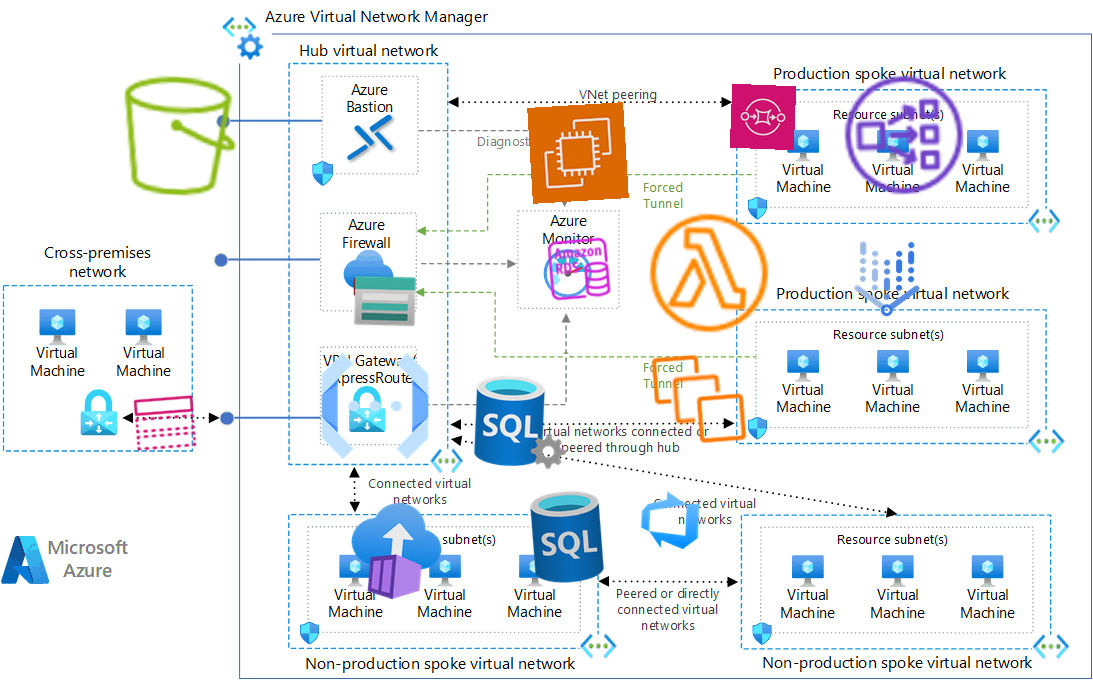aws_amazon_ec2: (527, 102, 629, 204)
aws_amazon_simple_queue_service: (729, 83, 797, 151)
aws_aurora_amazon_rds_instance: (544, 234, 614, 304)
aws_ec2_instances: (647, 347, 751, 451)
aws_elastic_load_balancing_network_load_balancer: (838, 69, 970, 201)
aws_lambda_lambda_function: (642, 206, 776, 340)
aws_simple_notification_service_topic: (130, 388, 200, 458)
aws_simple_storage_service_bucket: (111, 68, 247, 204)
azure_container_instances: (344, 499, 448, 603)
azure_devops: (636, 486, 704, 554)
azure_sql_database: (515, 485, 619, 589)
azure_sql_server: (471, 372, 571, 472)
azure_storage_accounts: (352, 268, 418, 334)
gcp_cloud_functions: (310, 341, 440, 471)
gcp_vertex_ai: (838, 230, 936, 328)
